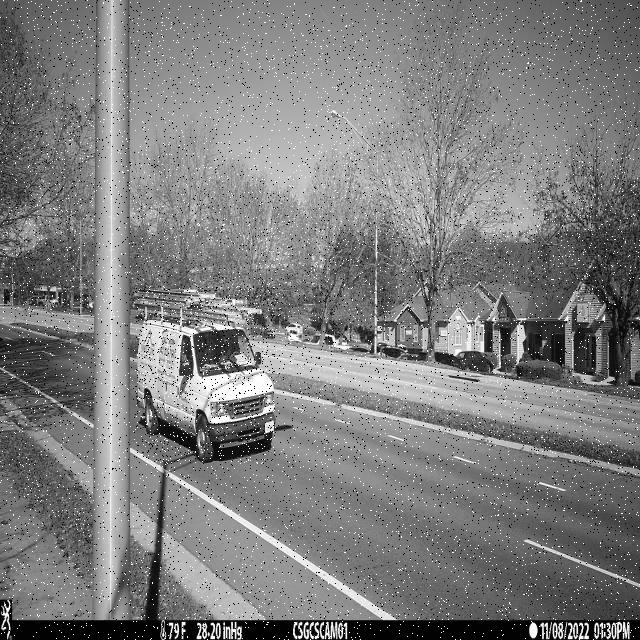Van: (135, 286, 275, 464)
